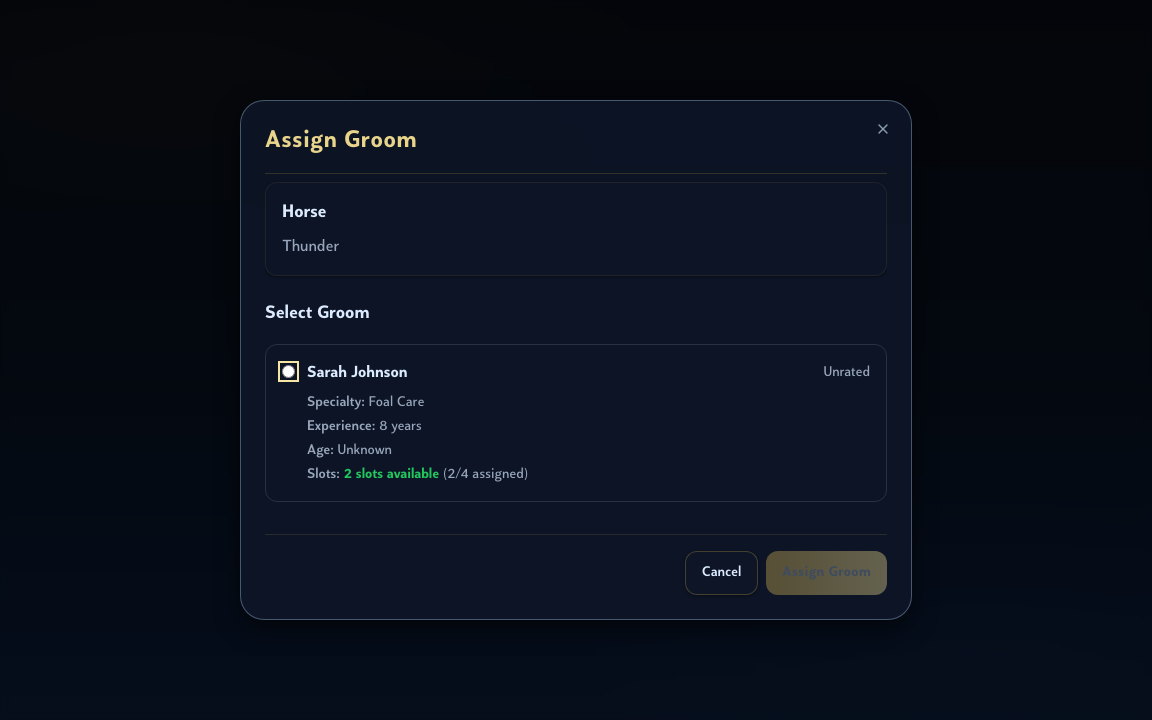
Test case: AssignGroomModal — failure copy (Equoria-eivq9) › a refused request (4xx) shows the shared class copy, not the server message
Click the radio button labelled "Sarah Johnson": (288, 372) left=282, top=365, right=295, bottom=378
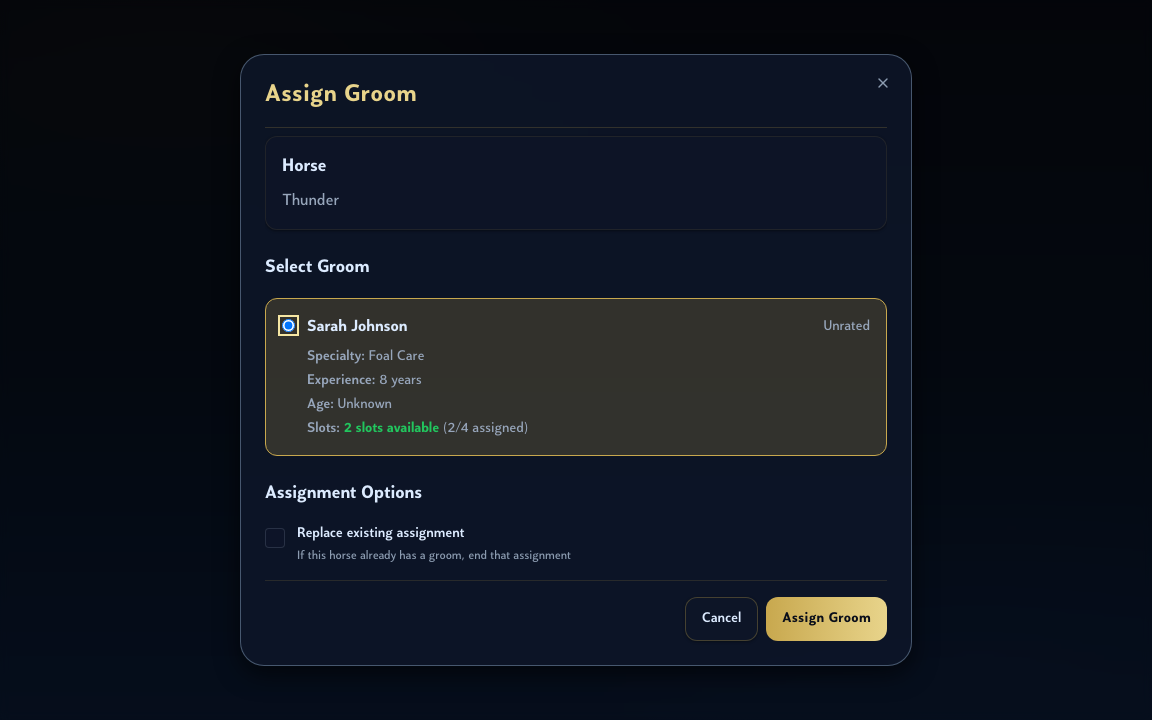
Click the button "Assign Groom": (827, 619) left=766, top=597, right=887, bottom=641
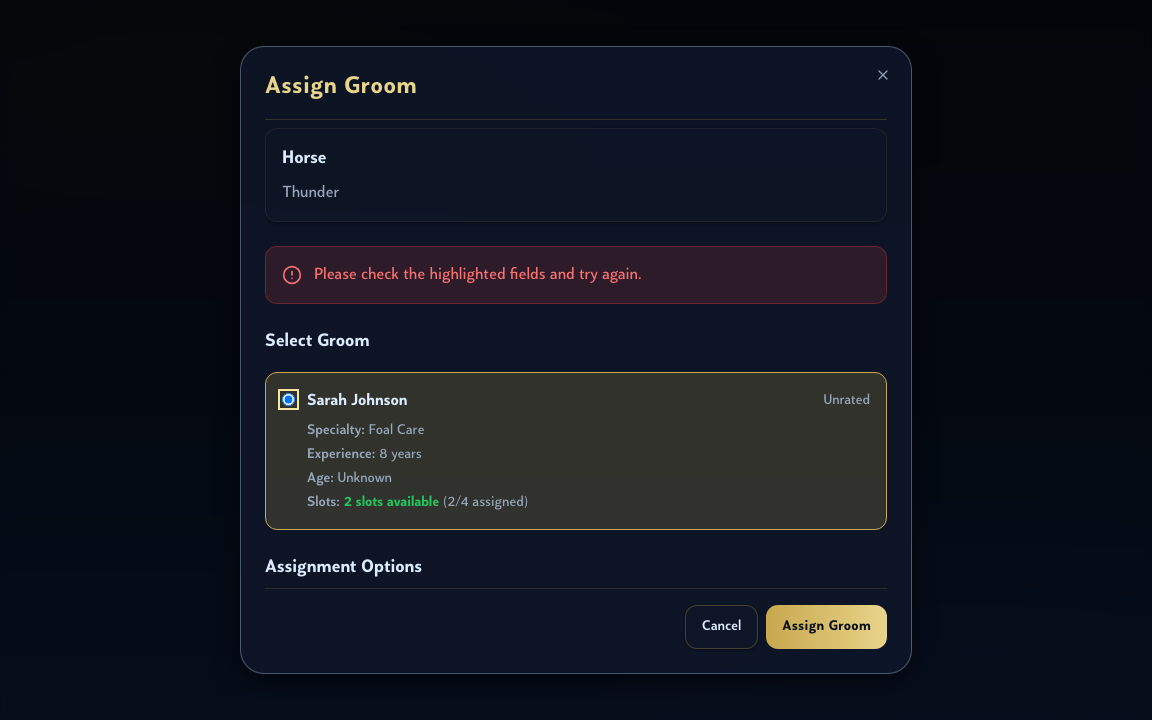
Check: the message "Please check the highlighted fields and try again." is shown, box left=265, top=246, right=887, bottom=304
